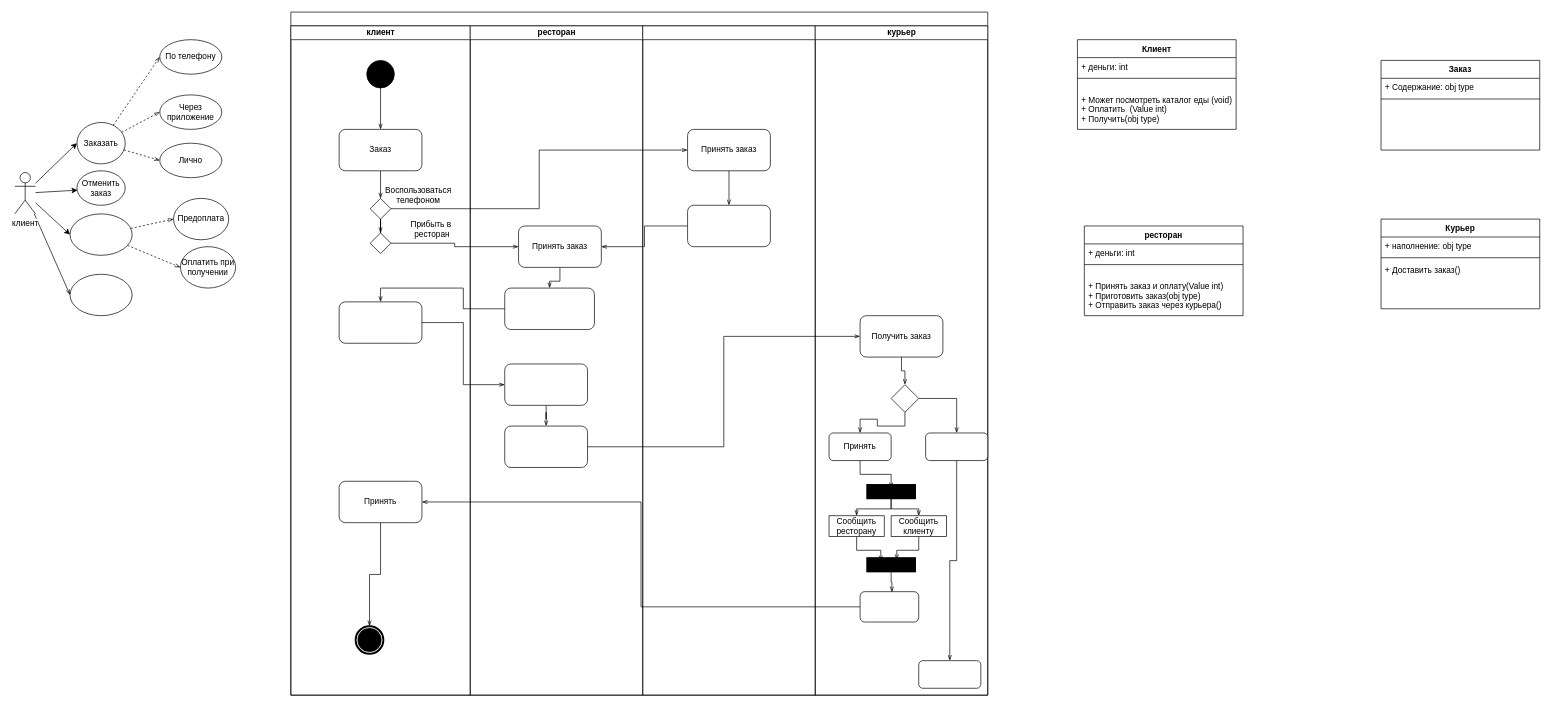
The diagram is 1552 pixels wide and 707 high, and some of its shapes have lost their labels. Here are the shapes that lost their labels. From the top down, the box of each, then its label:
(69, 213, 132, 255): Оплатить
(687, 205, 770, 247): Передать заказ
(69, 274, 132, 316): Посмотреть каталог еды
(504, 287, 594, 329): Ожидать оплаты
(338, 301, 422, 343): Оплатить заказ
(290, 11, 988, 695): Сервис доставки еды
(642, 25, 815, 695): диспетчер
(504, 363, 588, 405): Подтвердить оплату
(504, 425, 588, 467): Приготовить заказ
(925, 432, 988, 461): Отказать
(859, 591, 919, 622): Доставить
(918, 660, 981, 688): Ждать нового заказа
